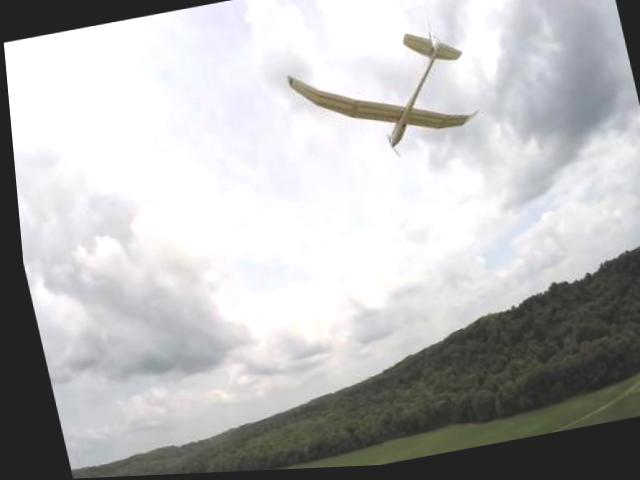uav: (276, 18, 485, 167)
